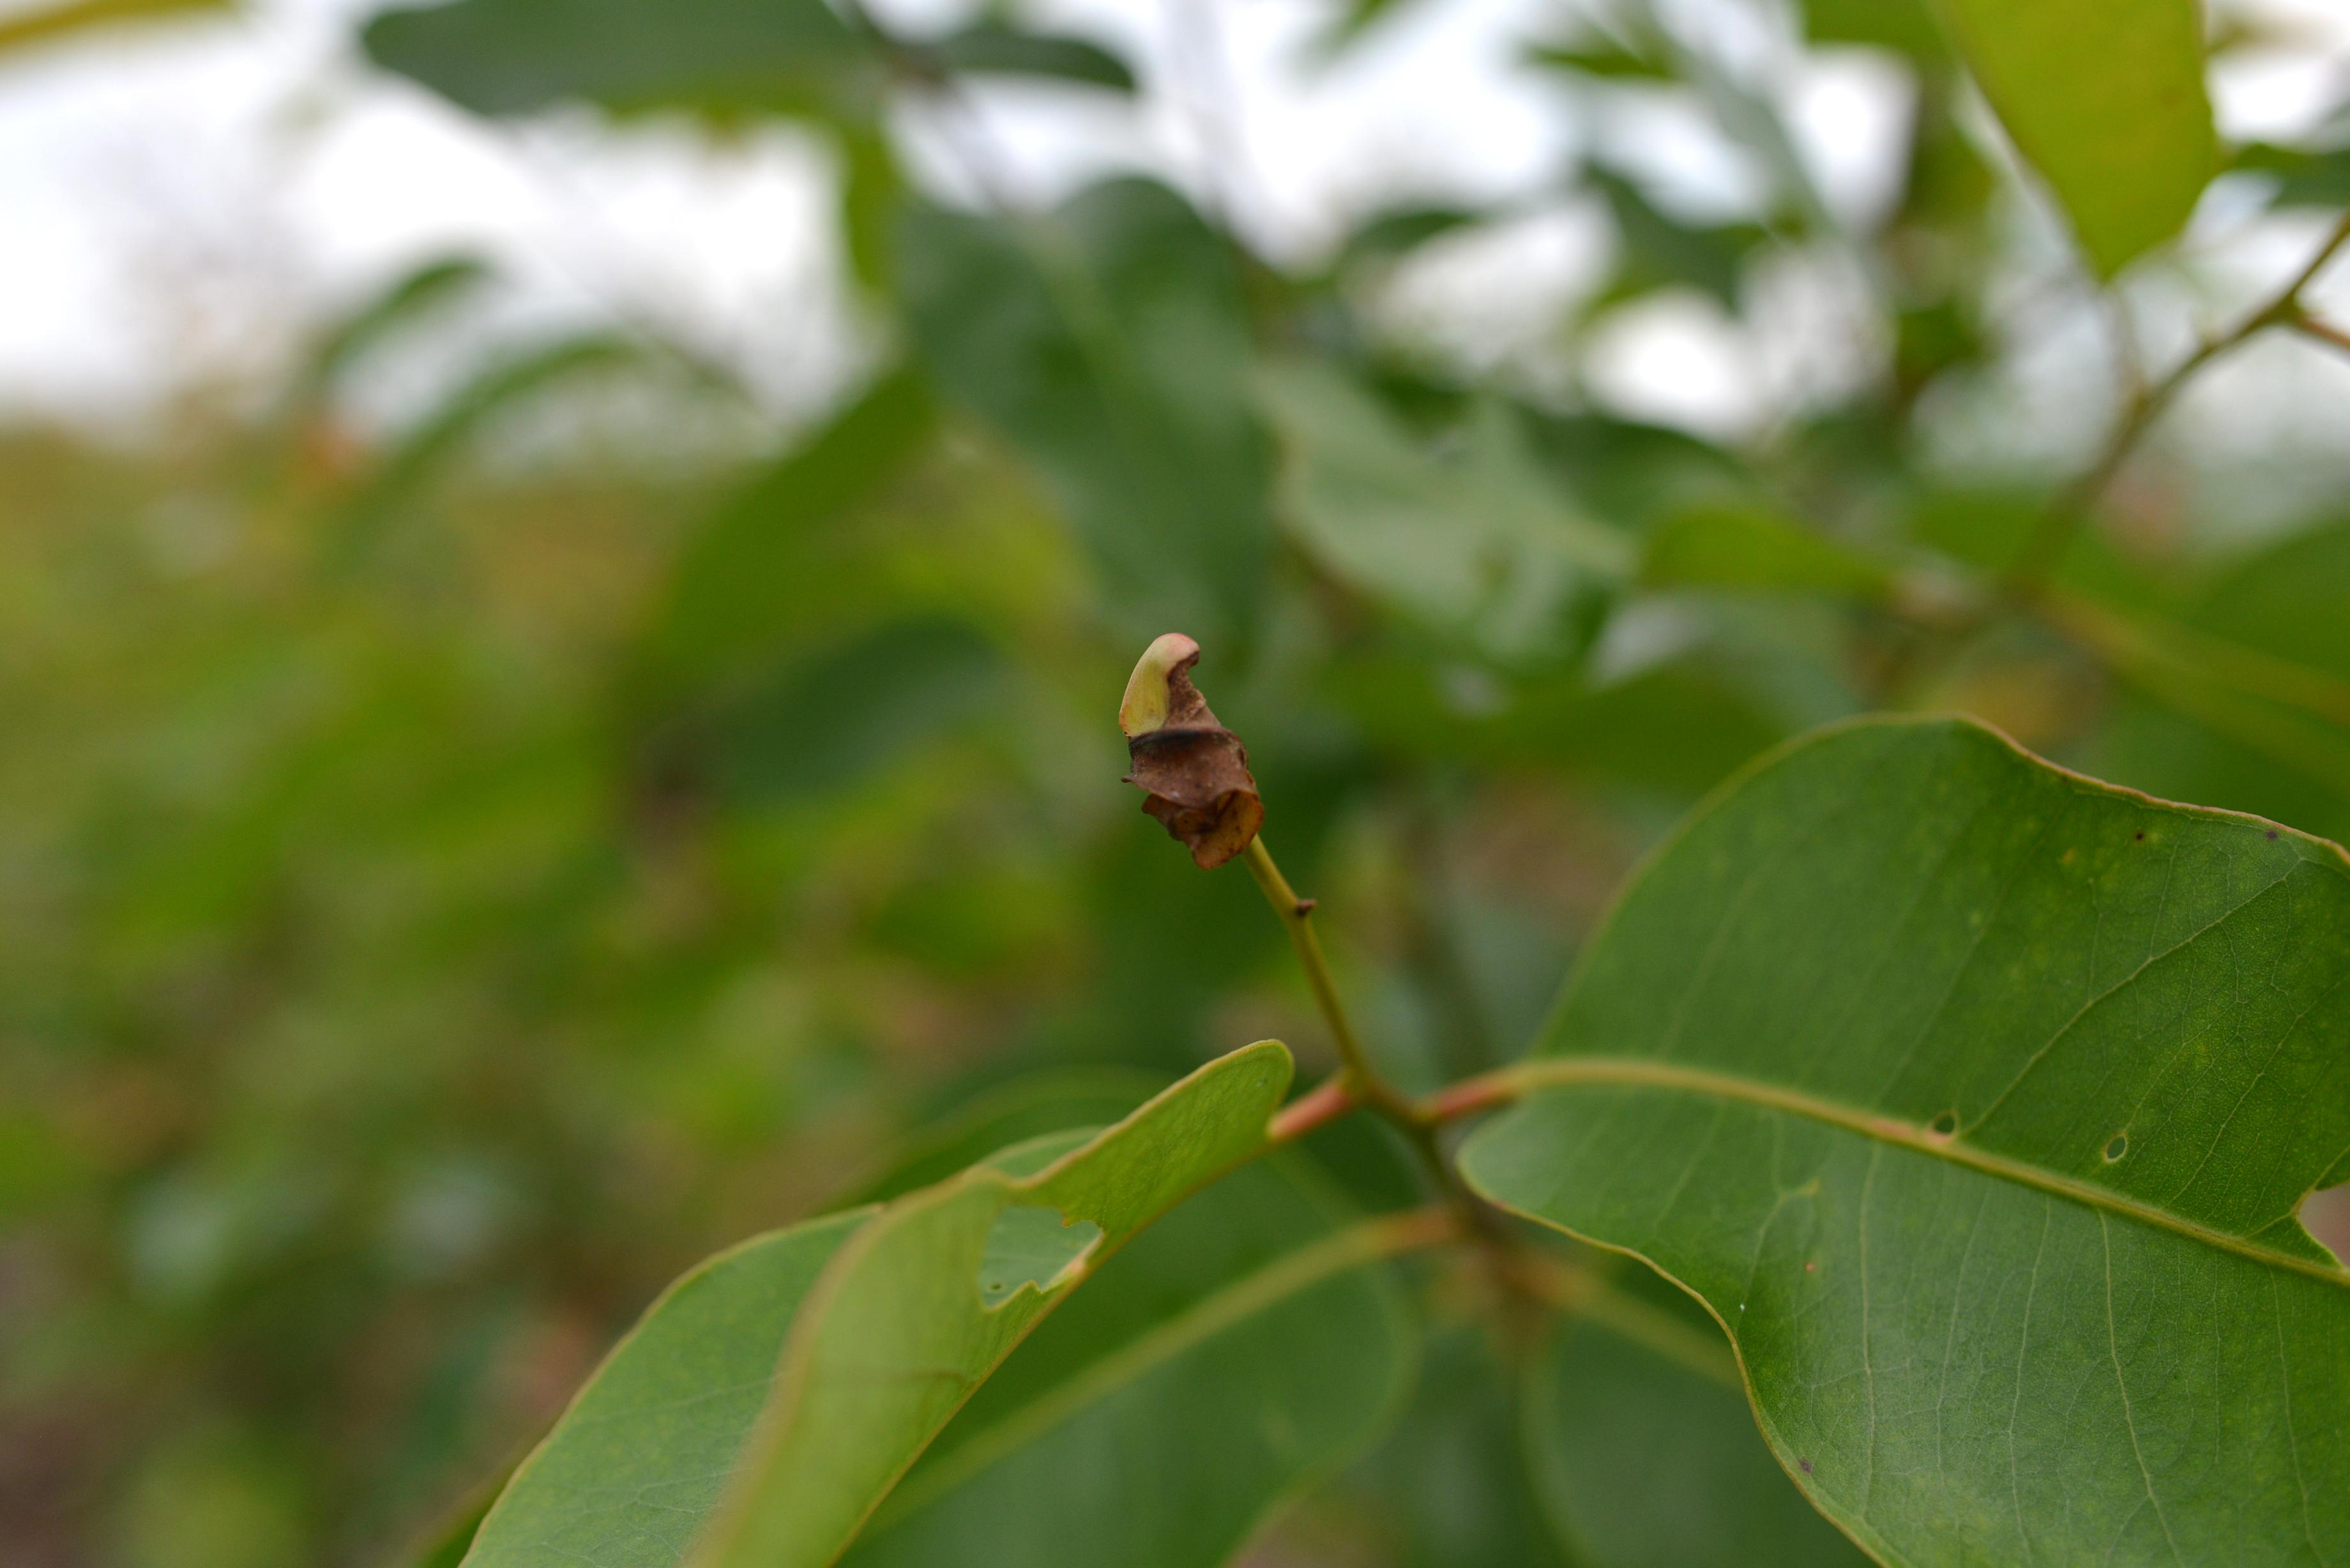Helopeltis-Withered Sprout: (1102, 630, 1269, 877)
